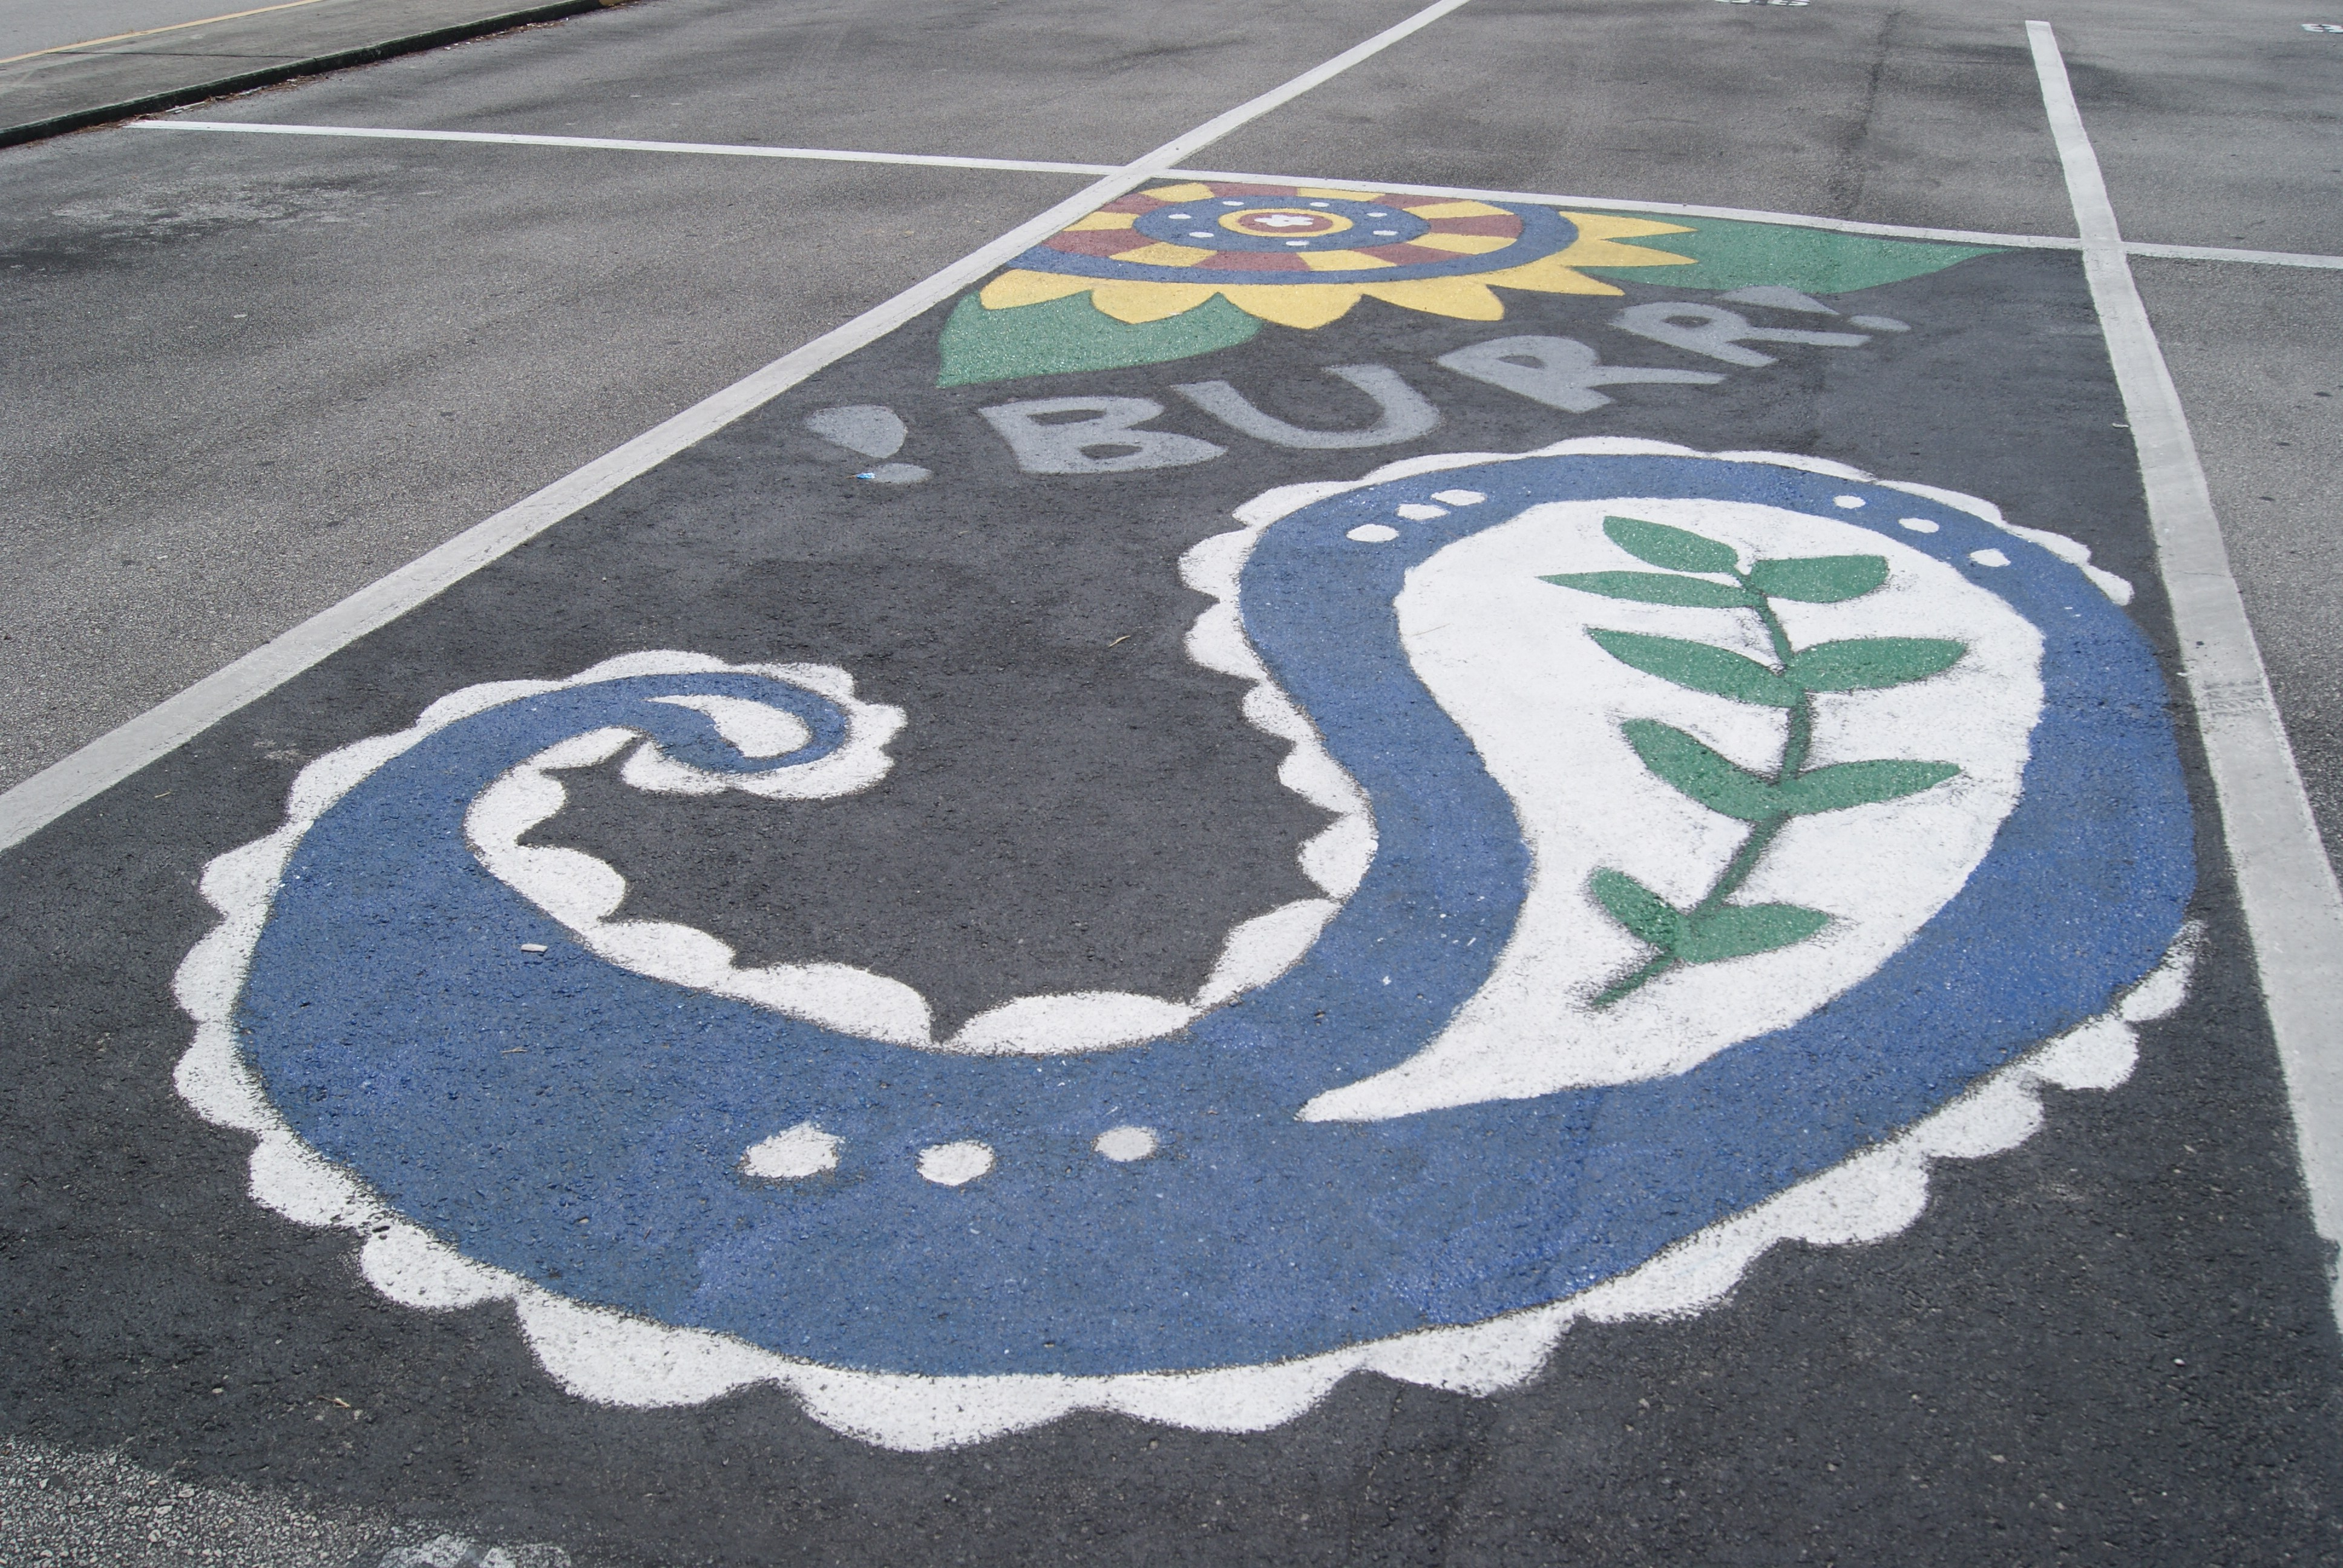empty_space: (12, 143, 2343, 1537), (2061, 226, 2343, 1318), (1111, 9, 2147, 261), (133, 12, 1507, 198), (2000, 12, 2343, 294)
